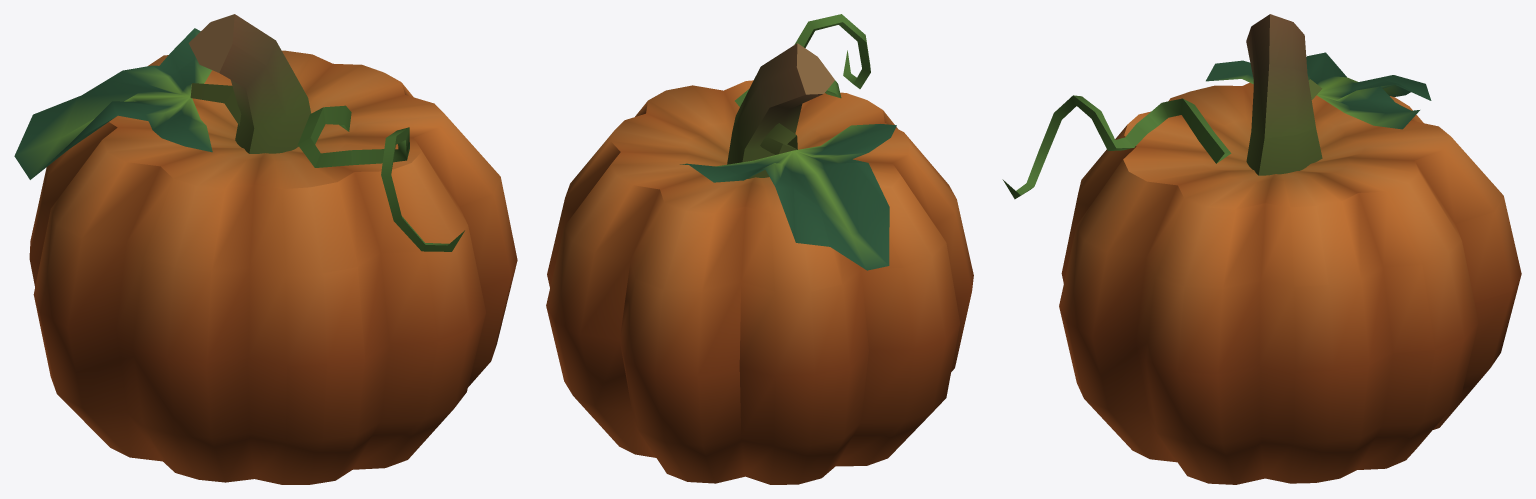
Rendered from pumpkin_2.glb.
3 renders of one model, left to right at view 1: azimuth 30°, elevation 25°; view 2: azimuth 150°, elevation 25°; view 3: azimuth 270°, elevation 25°, orthographic. The views are drawn at different scales.
Parts seen in each view (by area): view 1: pumpkin_2; view 2: pumpkin_2; view 3: pumpkin_2.
Boxes of the visible parts, left/top/right/bottom form: pumpkin_2: left=14, top=14, right=517, bottom=484; pumpkin_2: left=546, top=14, right=973, bottom=484; pumpkin_2: left=1002, top=14, right=1521, bottom=484.
Size of the model in its own units: 0.2262 by 0.2216 by 0.259.
